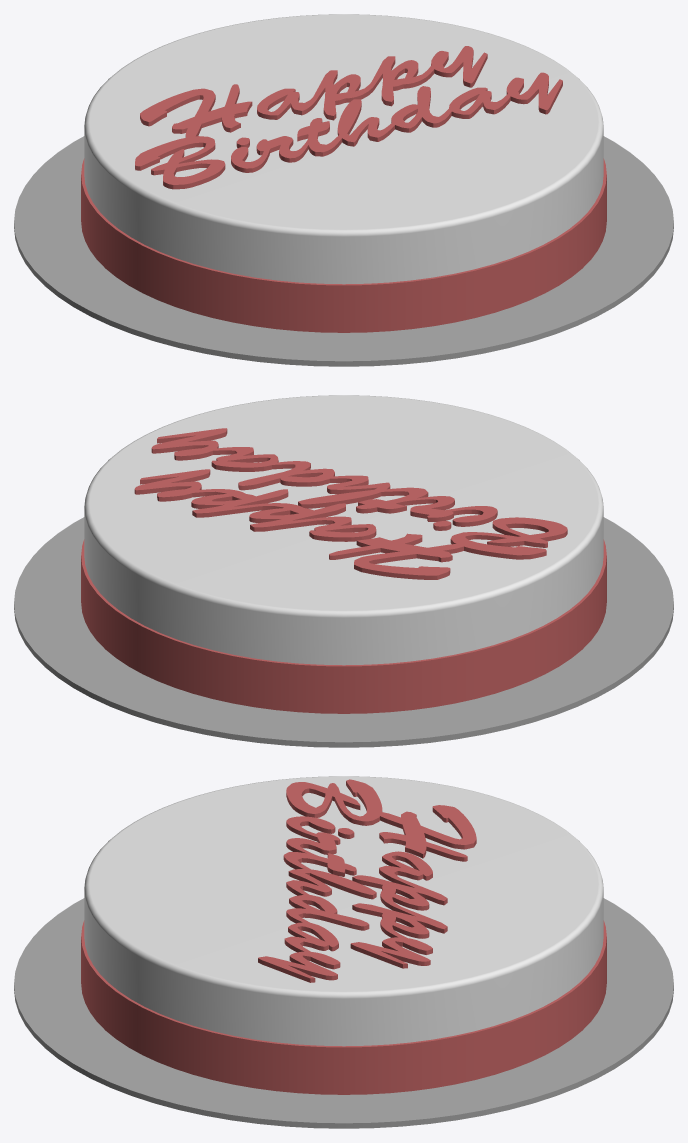
The model's file is Birthday_Cake.fbx.
3 views of the same model, one above another, from view 1: azimuth 30°, elevation 25°; view 2: azimuth 150°, elevation 25°; view 3: azimuth 270°, elevation 25° (orthographic).
Parts seen in each view (by area): view 1: Cake_Icing_White, Cake_Base, Cake_Icing_Red, Happy_Birthday_Text; view 2: Cake_Icing_White, Cake_Base, Cake_Icing_Red, Happy_Birthday_Text; view 3: Cake_Icing_White, Cake_Base, Cake_Icing_Red, Happy_Birthday_Text.
Boxes of the visible parts, x1,y1,x2,y2 form: Cake_Icing_White: (84, 14, 603, 284); Cake_Base: (14, 136, 673, 366); Cake_Icing_Red: (81, 158, 606, 332); Happy_Birthday_Text: (135, 46, 562, 189); Cake_Icing_White: (84, 395, 603, 665); Cake_Base: (14, 517, 673, 747); Cake_Icing_Red: (81, 539, 606, 713); Happy_Birthday_Text: (134, 428, 567, 579); Cake_Icing_White: (84, 776, 603, 1046); Cake_Base: (14, 898, 673, 1128); Cake_Icing_Red: (81, 920, 606, 1094); Happy_Birthday_Text: (258, 779, 476, 982).
Size of the model in its own units: 60.31 by 11.05 by 60.31.
